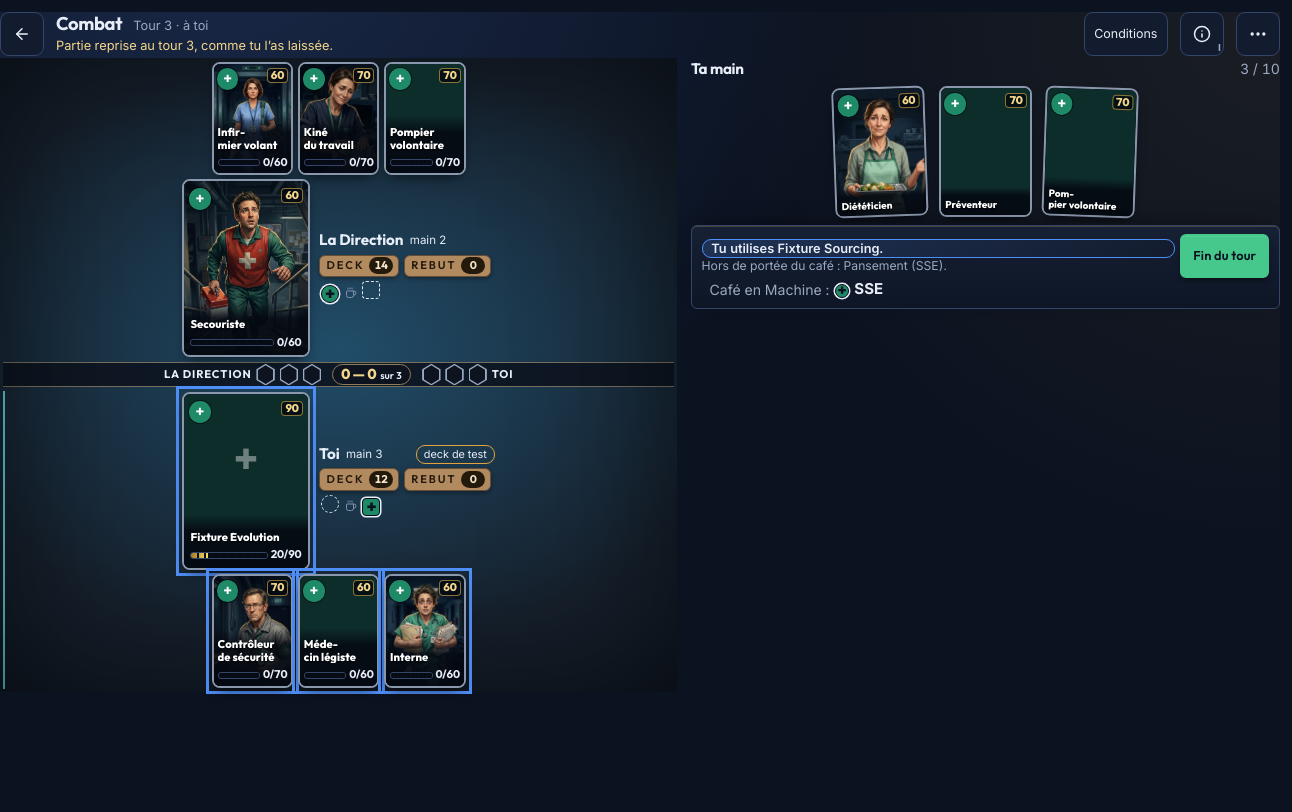
Test: Battle — mécaniques du moteur à l’écran (#159 à #165) › 6 · Talent « en jouant » (#163) › le journal indique le déclenchement une seule fois, et aucun bouton Talent n’est proposé
Click the button named "Menu du combat" at (1258, 34), box [1236,12,1280,56]
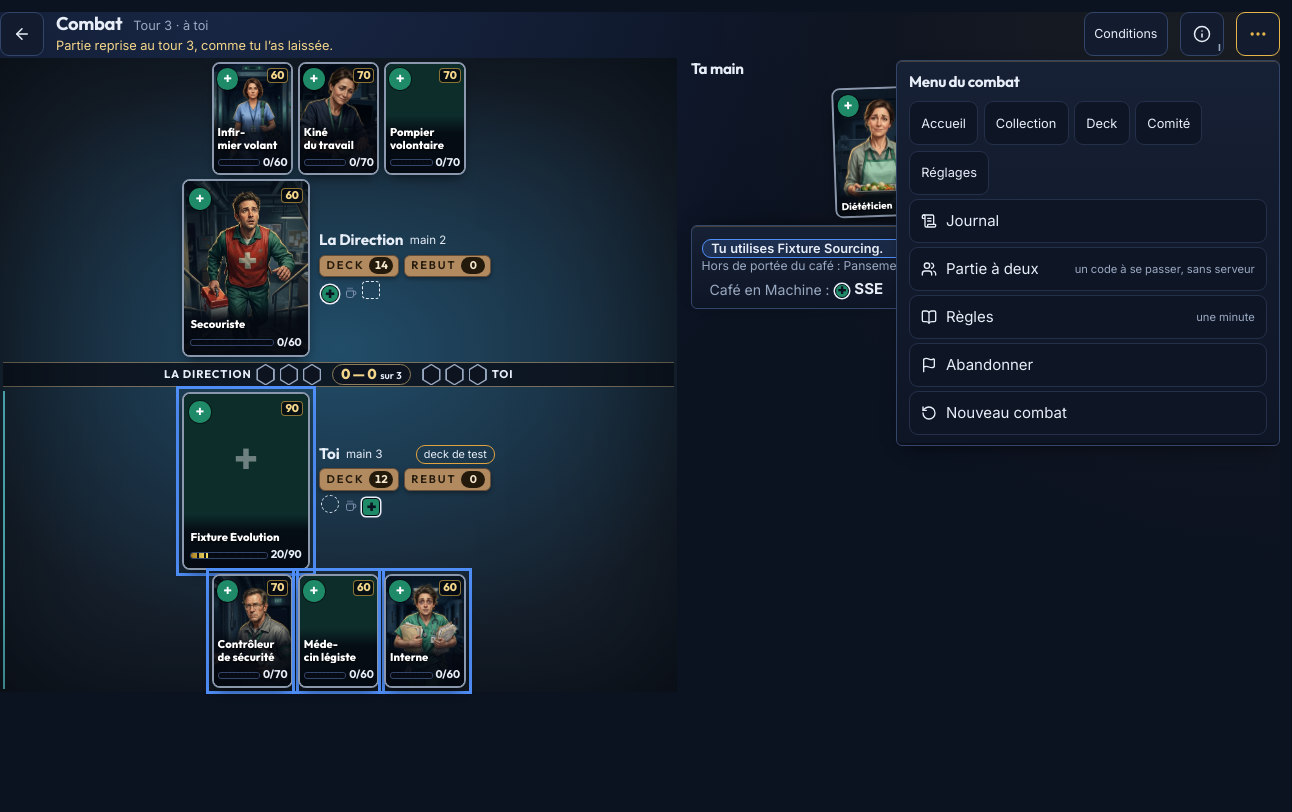
Click the button "Journal" at (973, 220), box [909,199,1267,243]
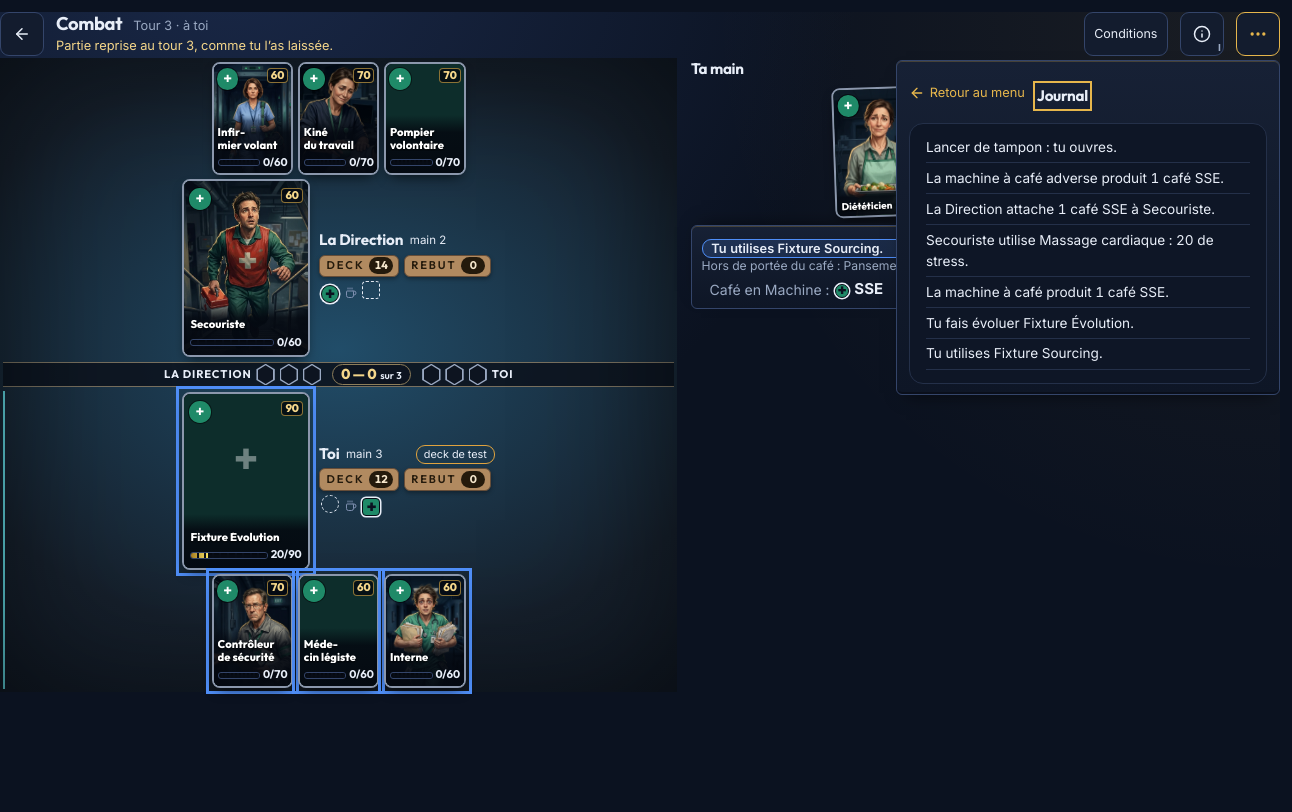
Expected: the list item "Tu utilises Fixture Sourcing." is shown, [926,344,1250,370]
